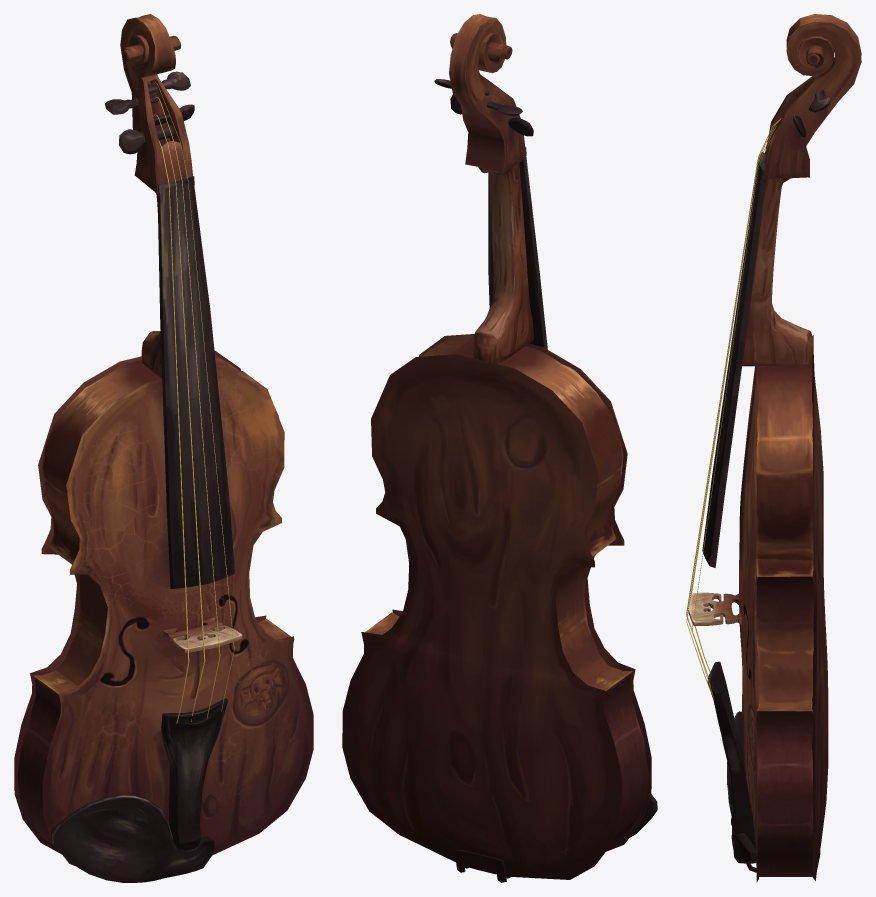
The model's file is ViolinFinaloso.fbx.
The picture shows the model from 3 angles, left to right: view 1: azimuth 30°, elevation 25°; view 2: azimuth 150°, elevation 25°; view 3: azimuth 270°, elevation 25°; orthographic projection. The views are drawn at different scales.
Parts seen in each view (by area): view 1: VIOLIN, VIOLIN.001; view 2: VIOLIN; view 3: VIOLIN, VIOLIN.001.
Part boxes in pixels (x1,y1,x2,y2): VIOLIN: (14, 14, 313, 882); VIOLIN.001: (153, 82, 234, 723); VIOLIN: (342, 14, 657, 882); VIOLIN: (688, 14, 861, 882); VIOLIN.001: (686, 118, 781, 699).
Size of the model in its own units: 22.6 by 66.33 by 12.45.
